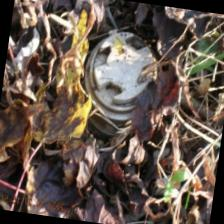M14: (76, 25, 162, 143)
